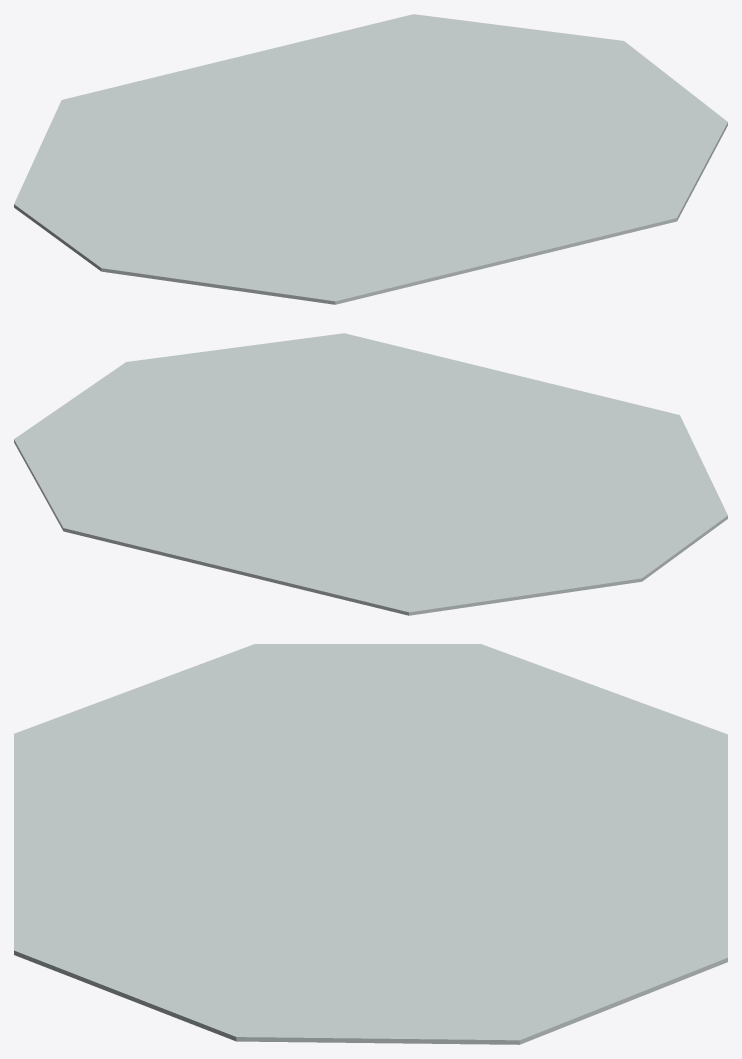
Rendered from specimenroom_floor.fbx.
3 views of the same model, one above another, from view 1: azimuth 30°, elevation 25°; view 2: azimuth 150°, elevation 25°; view 3: azimuth 270°, elevation 25° (orthographic). The views are drawn at different scales.
Parts seen in each view (by area): view 1: Plane.015; view 2: Plane.015; view 3: Plane.015.
Boxes of the visible parts, bbox=[...] form: Plane.015: bbox=[14, 14, 727, 304]; Plane.015: bbox=[14, 333, 727, 615]; Plane.015: bbox=[14, 644, 727, 1044].
Size of the model in its own units: 1879 by 10 by 1431.
